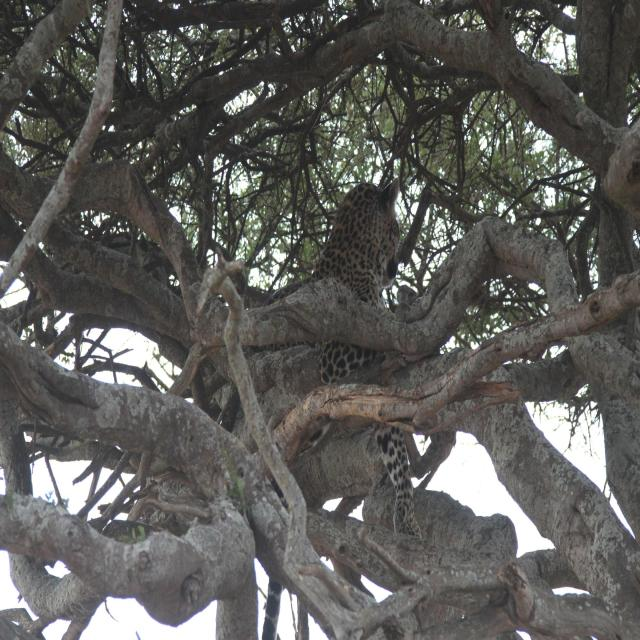Leopard: (298, 153, 416, 640)
